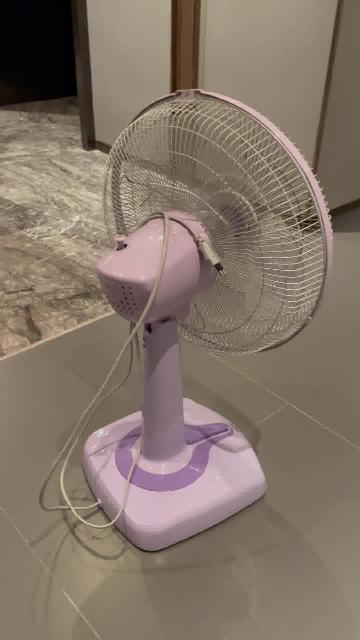Fan: (81, 91, 334, 555)
